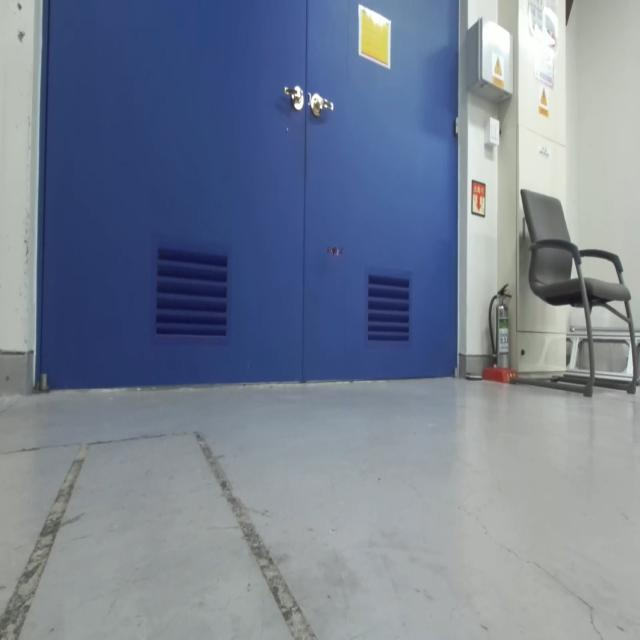crazyflie: (320, 234, 350, 268)
